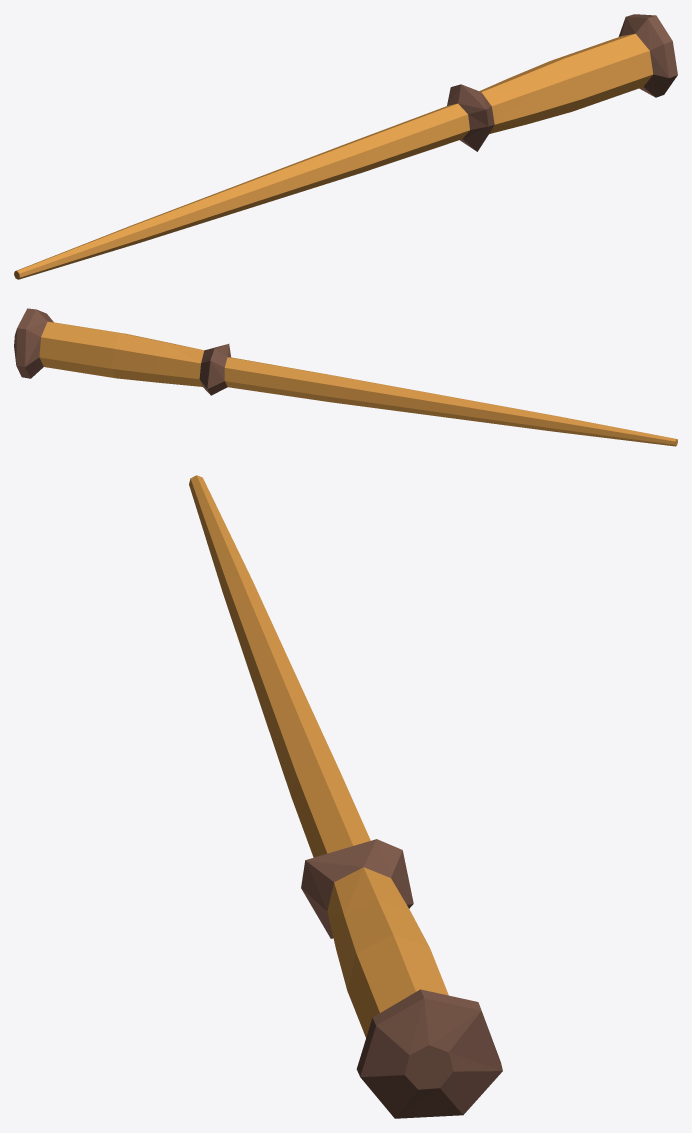
Rendered from wand.glb.
3 views of the same model, one above another, from view 1: azimuth 30°, elevation 25°; view 2: azimuth 150°, elevation 25°; view 3: azimuth 270°, elevation 25° (orthographic). The views are drawn at different scales.
Visible parts, largest first — view 1: group2082736007; view 2: group2082736007; view 3: group2082736007.
Part boxes in pixels (x1,y1,x2,y2): group2082736007: (14, 14, 677, 279); group2082736007: (14, 308, 677, 446); group2082736007: (189, 475, 502, 1118).
Size of the model in its own units: 2.04 by 0.1977 by 0.4595.
